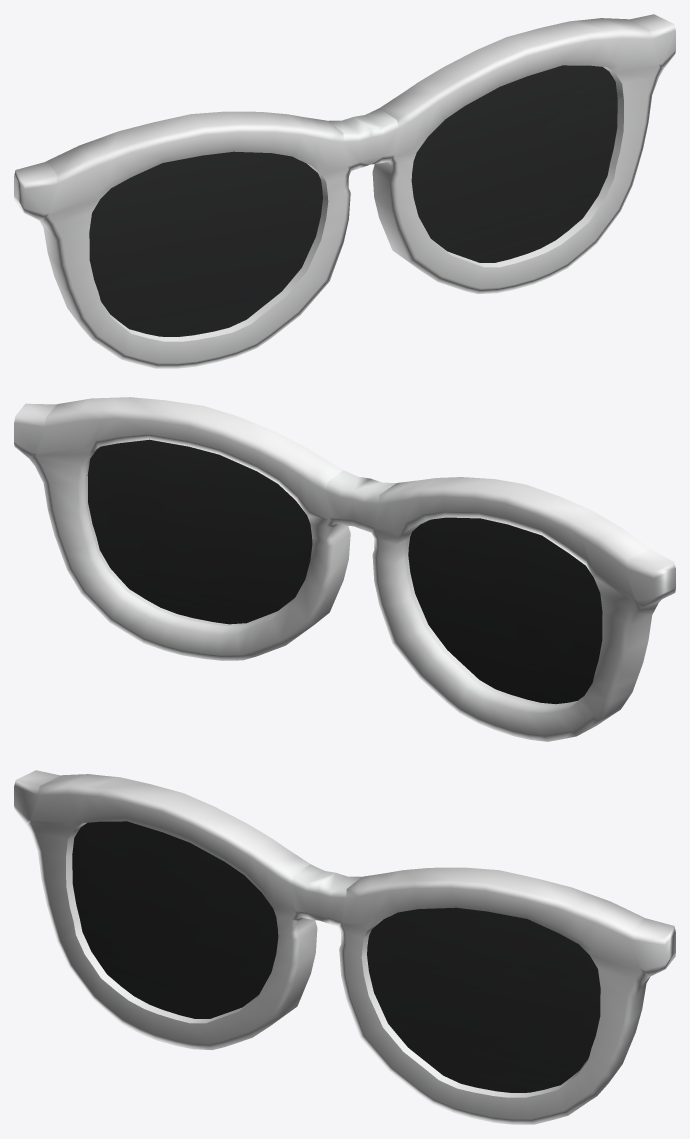
Rendered from Glasses_01.glb.
3 views of the same model, one above another, from view 1: azimuth 30°, elevation 25°; view 2: azimuth 150°, elevation 25°; view 3: azimuth 330°, elevation 25° (orthographic).
Visible parts, largest first — view 1: Glasses_01; view 2: Glasses_01; view 3: Glasses_01.
Part boxes in pixels (left/top/right/bottom): Glasses_01: left=14, top=14, right=675, bottom=368; Glasses_01: left=14, top=397, right=675, bottom=741; Glasses_01: left=14, top=770, right=675, bottom=1124.
Bounding box in the file's own units: 0.5403 × 0.189 × 0.0541.
Materials: 1 (1 with a texture image).
